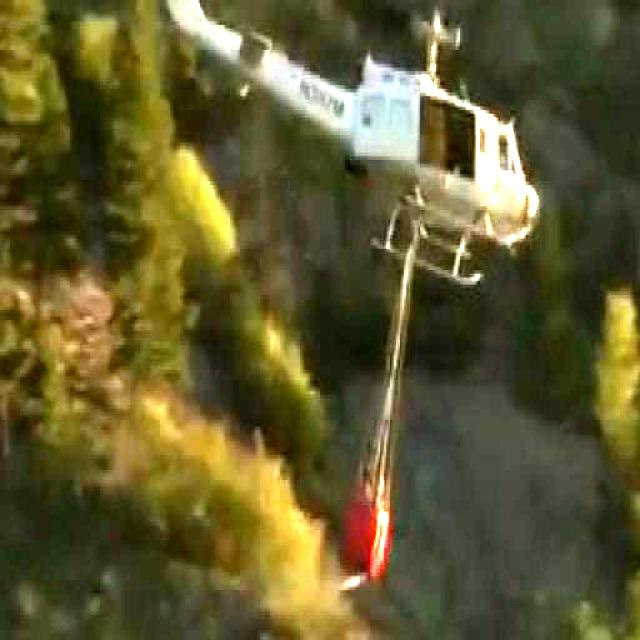drone: (139, 0, 542, 305)
